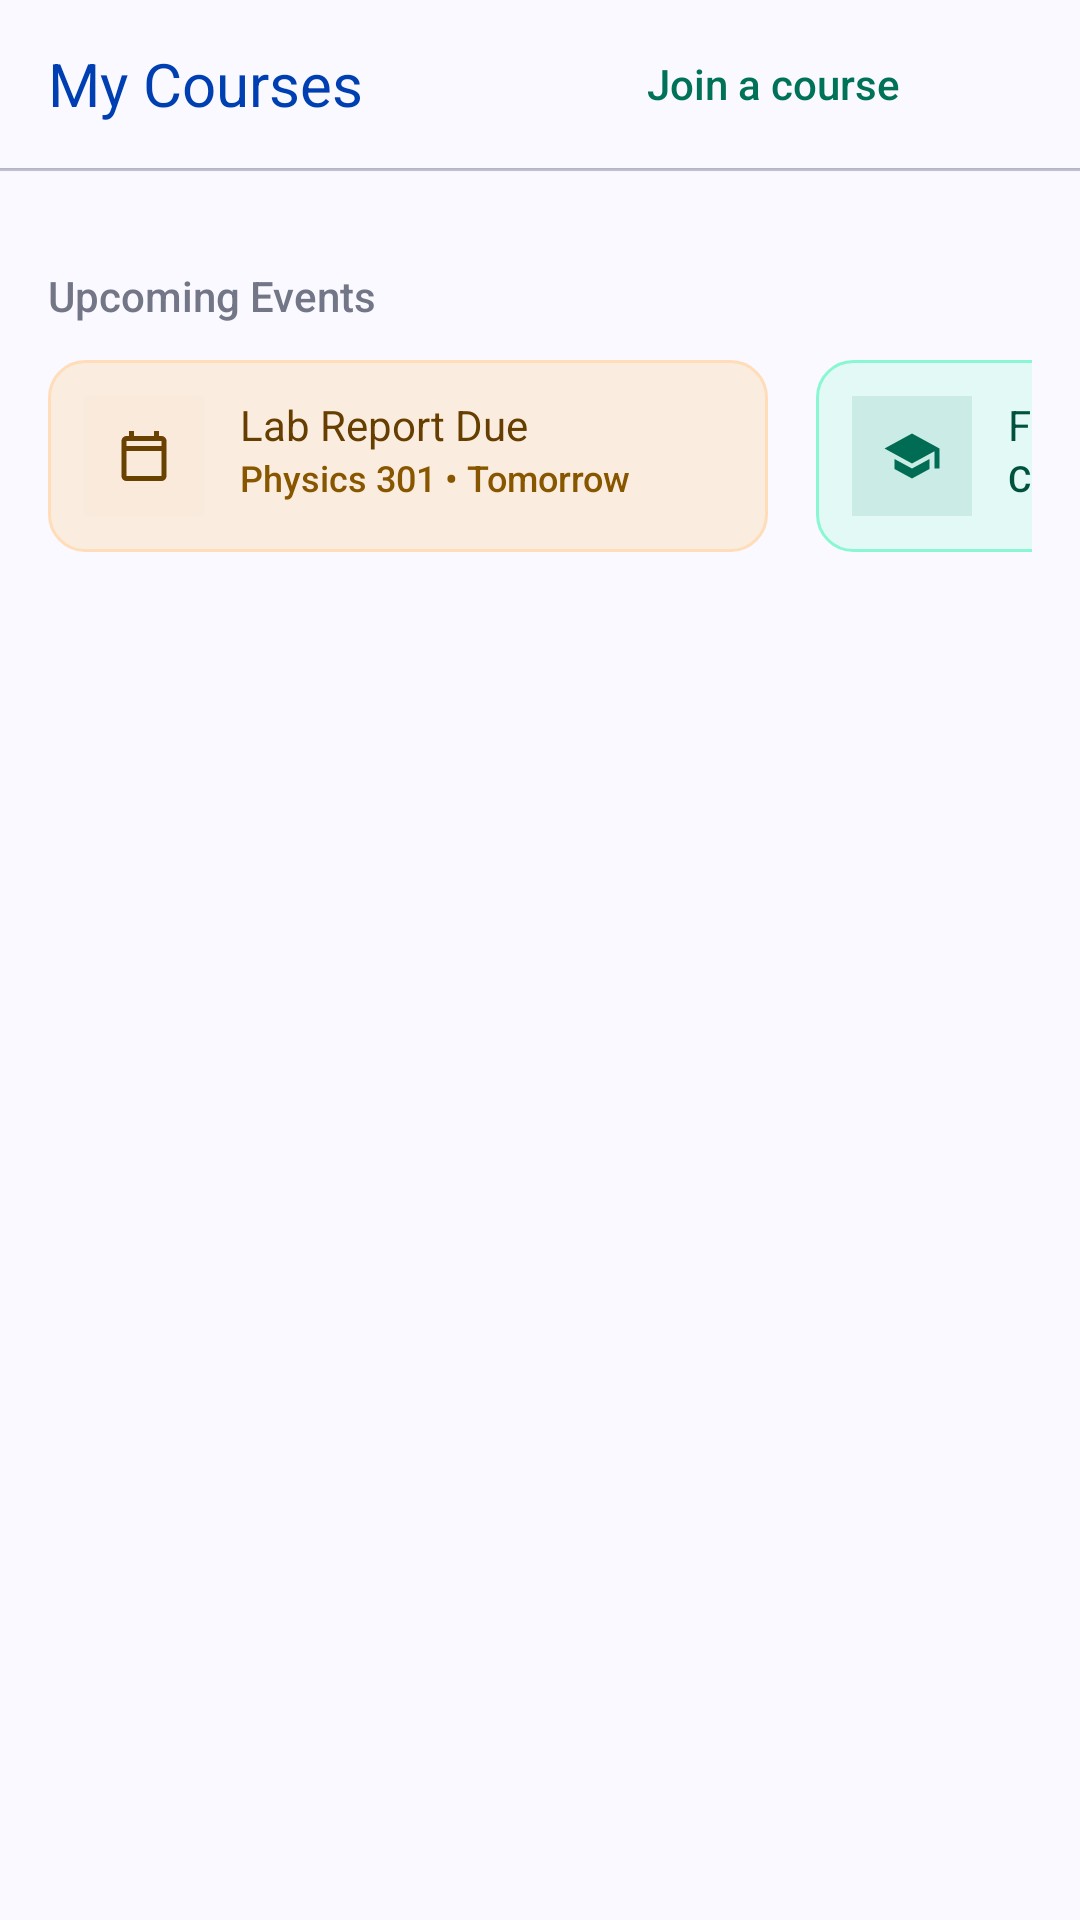

Icons on this 1080 x 1920 Android screen, each with the point to tap as [x,y]:
school: [912,456]
